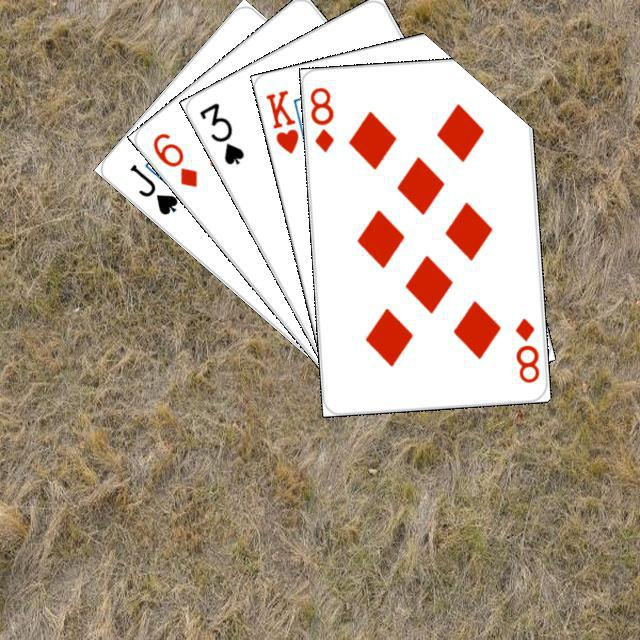3s: (194, 97, 247, 167)
6d: (147, 128, 200, 189)
8d: (305, 82, 336, 154), (510, 313, 541, 385)
Js: (124, 159, 180, 217)
Kh: (260, 85, 311, 158)
